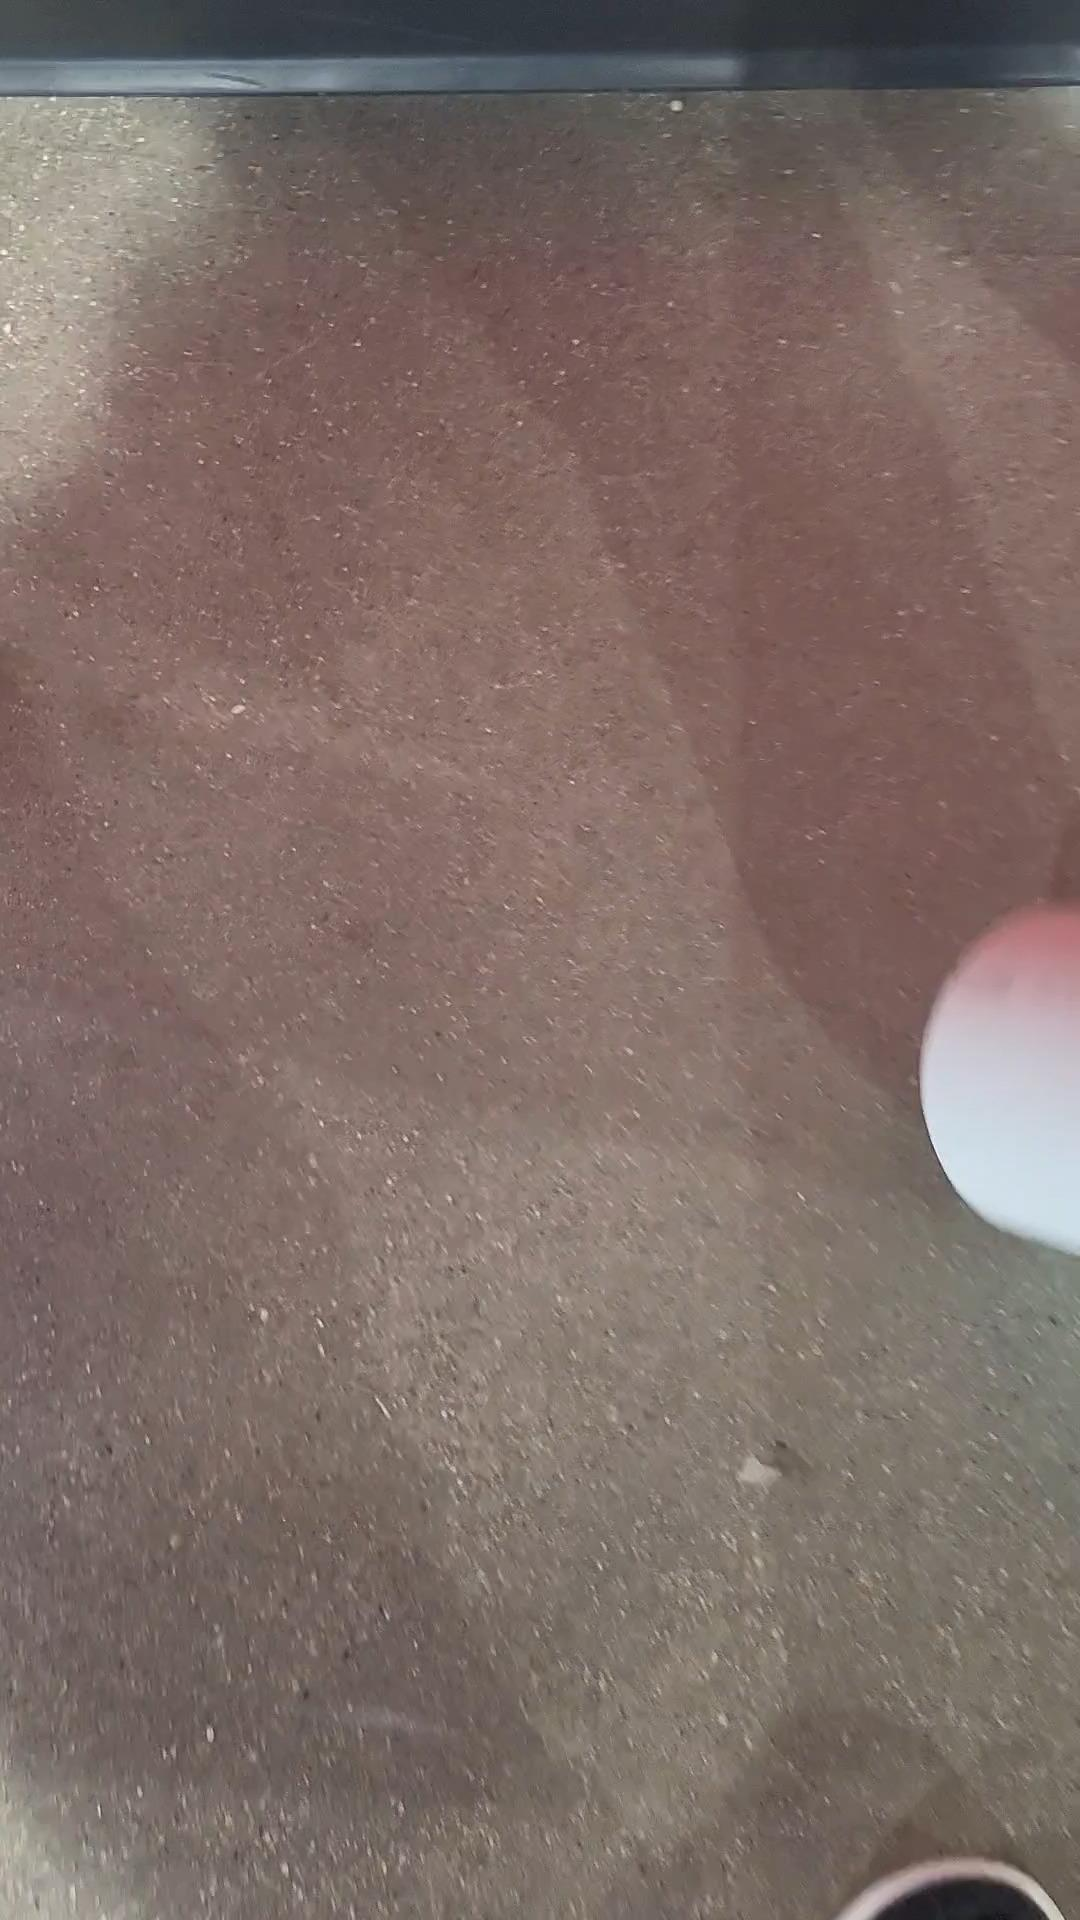coral: (916, 876, 1080, 1292)
